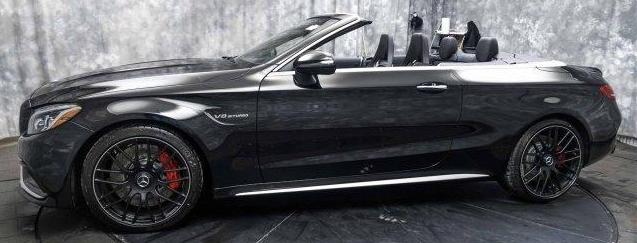C63AMG: (16, 9, 624, 234)
